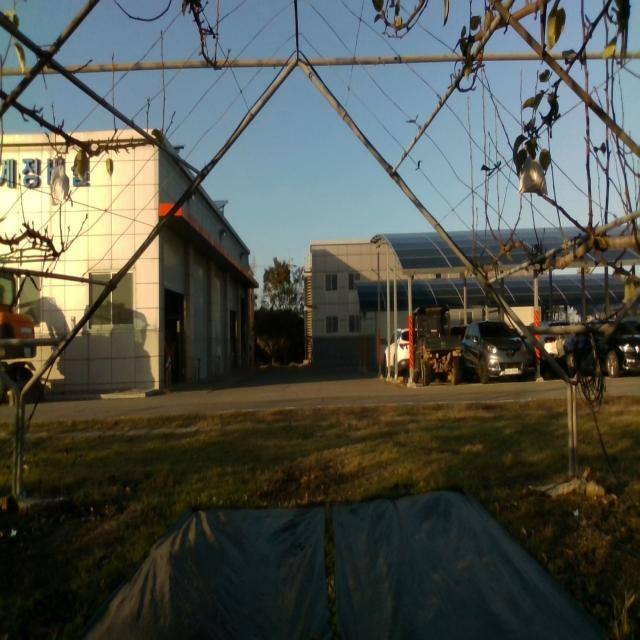pearbags: (516, 154, 548, 197), (50, 164, 70, 206)
